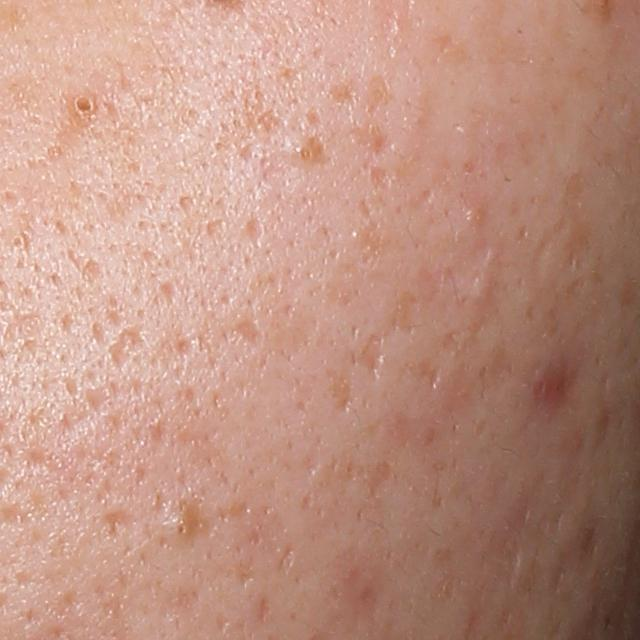atrophic_scar: (105, 323, 153, 375), (231, 316, 275, 347), (242, 209, 271, 250), (352, 332, 379, 376), (99, 509, 134, 542), (419, 359, 445, 392), (254, 590, 272, 626), (278, 544, 294, 577), (370, 162, 388, 191)
comedo: (282, 133, 323, 166), (59, 89, 96, 119), (170, 517, 194, 540)
